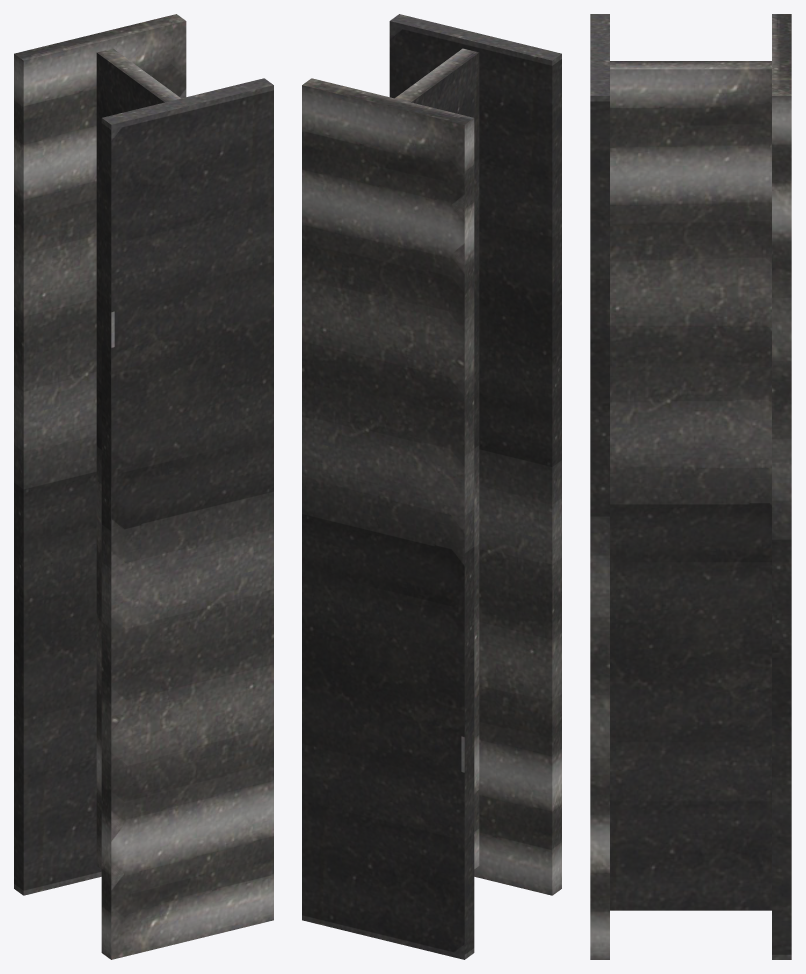
Rendered from Pillar.FBX.
The picture shows the model from 3 angles, left to right: view 1: azimuth 30°, elevation 25°; view 2: azimuth 150°, elevation 25°; view 3: azimuth 270°, elevation 25°; orthographic projection. The views are drawn at different scales.
Parts seen in each view (by area): view 1: column; view 2: column; view 3: column.
Part boxes in pixels (x1,y1,x2,y2): column: [14, 14, 273, 959]; column: [302, 14, 561, 959]; column: [590, 14, 791, 959].
Bounding box in the file's own units: 20.54 × 101 × 21.28.
